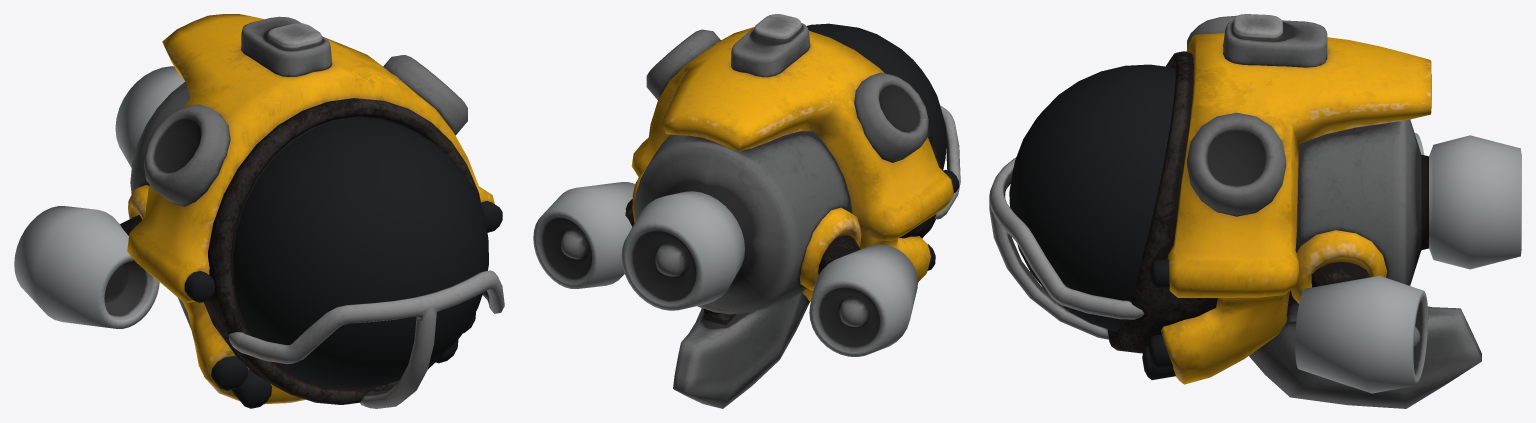
Rendered from player_.gltf.
3 renders of one model, left to right at view 1: azimuth 30°, elevation 25°; view 2: azimuth 150°, elevation 25°; view 3: azimuth 270°, elevation 25°, orthographic. The views are drawn at different scales.
Parts seen in each view (by area): view 1: Object_2; view 2: Object_2; view 3: Object_2.
Part boxes in pixels (<box>): Object_2: <box>14,14,504,408</box>; Object_2: <box>533,14,960,408</box>; Object_2: <box>989,14,1521,408</box>.
Size of the model in its own units: 4.9 by 4.37 by 5.52.
1 material, 1 textured.
